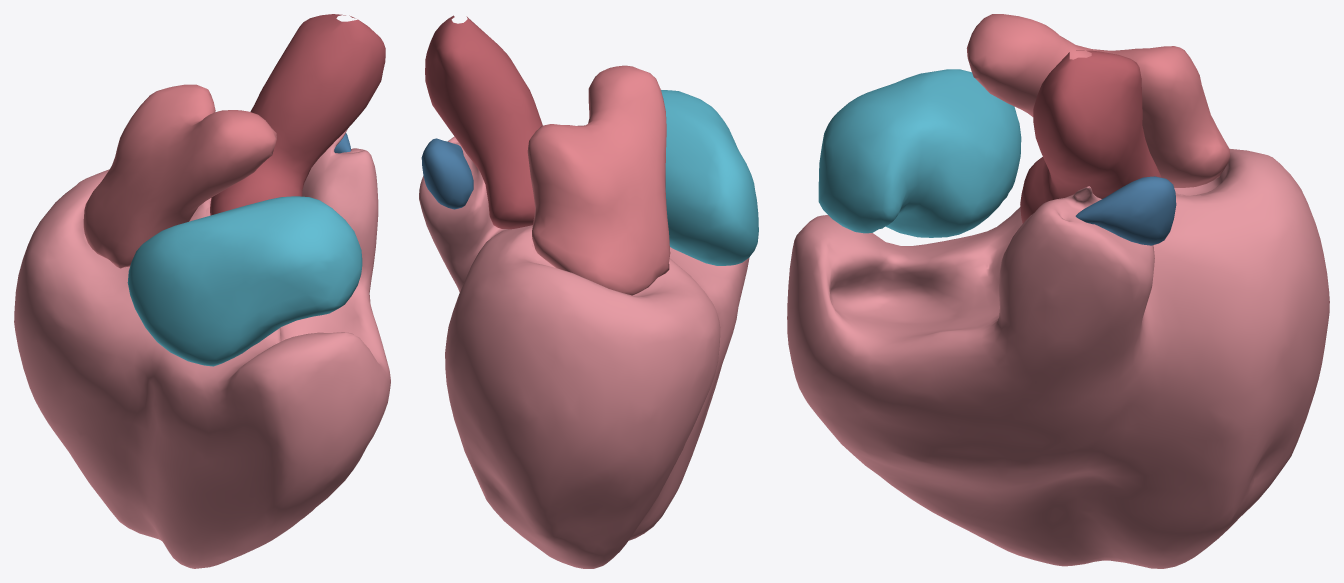
The model's file is frame_29.glb.
The picture shows the model from 3 angles, left to right: view 1: azimuth 30°, elevation 25°; view 2: azimuth 150°, elevation 25°; view 3: azimuth 270°, elevation 25°; orthographic projection. The views are drawn at different scales.
Visible parts, largest first — view 1: Renderer Node; view 2: Renderer Node; view 3: Renderer Node.
Boxes of the visible parts, x1,y1,x2,y2 form: Renderer Node: (14, 14, 390, 568); Renderer Node: (419, 15, 758, 568); Renderer Node: (787, 14, 1329, 568).
Bounding box in the file's own units: 106 × 163 × 132.
